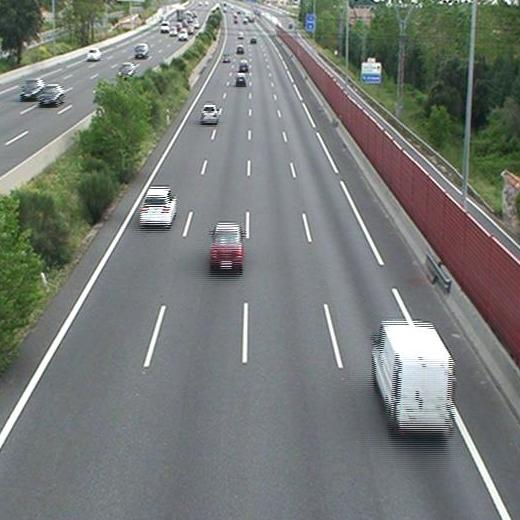car: (210, 224, 242, 269), (141, 187, 176, 226), (200, 104, 218, 123), (239, 58, 249, 71), (236, 75, 246, 86), (222, 53, 231, 62), (236, 45, 244, 53)
van: (372, 322, 455, 433)
